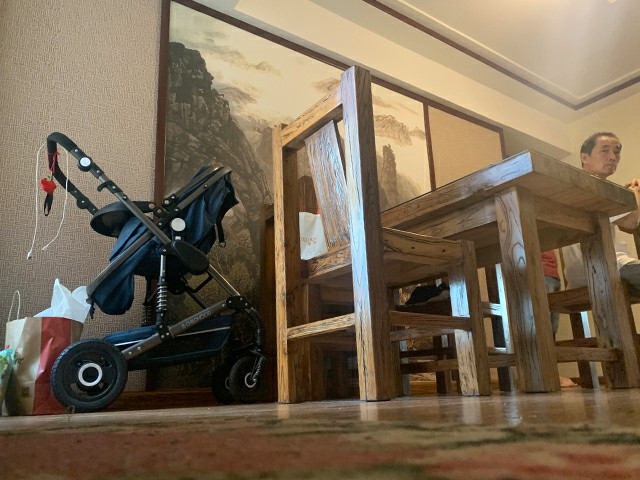carpet: (1, 417, 640, 480)
table: (270, 64, 489, 407), (379, 147, 640, 396)
